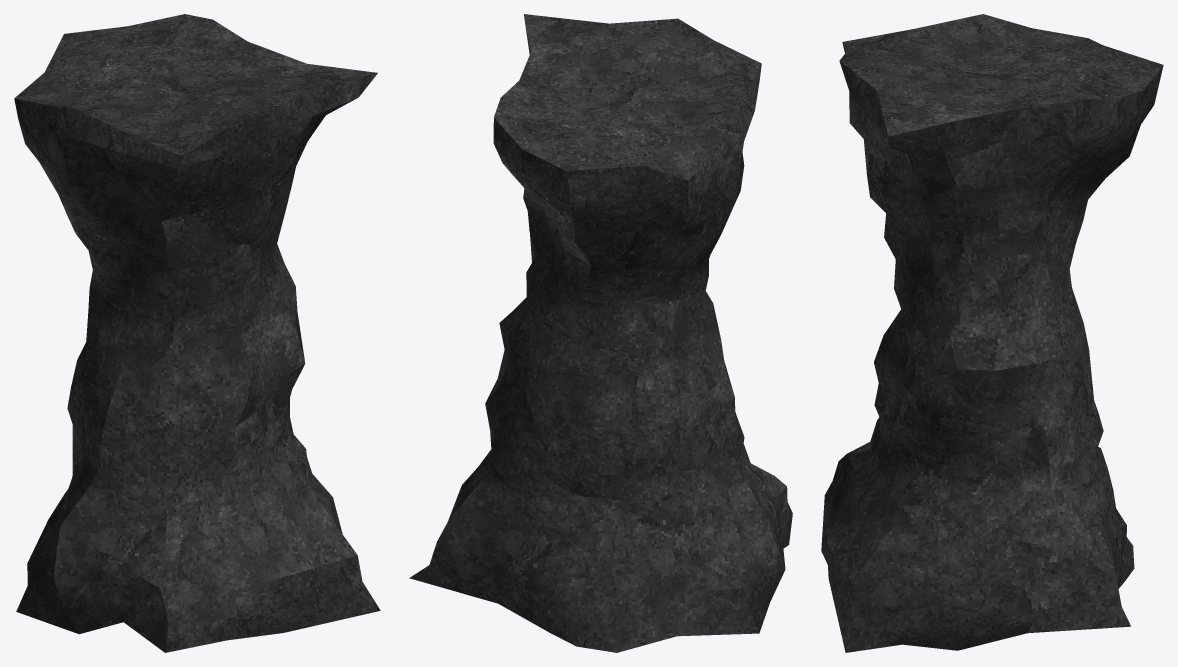
Rendered from CaveStalagmitePillarTHICK.glb.
The picture shows the model from 3 angles, left to right: view 1: azimuth 30°, elevation 25°; view 2: azimuth 150°, elevation 25°; view 3: azimuth 270°, elevation 25°; orthographic projection. The views are drawn at different scales.
Visible parts, largest first — view 1: Cylinder.026; view 2: Cylinder.026; view 3: Cylinder.026.
Part boxes in pixels (bbox=[...]): Cylinder.026: bbox=[14, 14, 380, 652]; Cylinder.026: bbox=[409, 14, 792, 652]; Cylinder.026: bbox=[821, 14, 1163, 652].
Size of the model in its own units: 3.98 by 6.68 by 3.87.
1 material, 1 textured.
